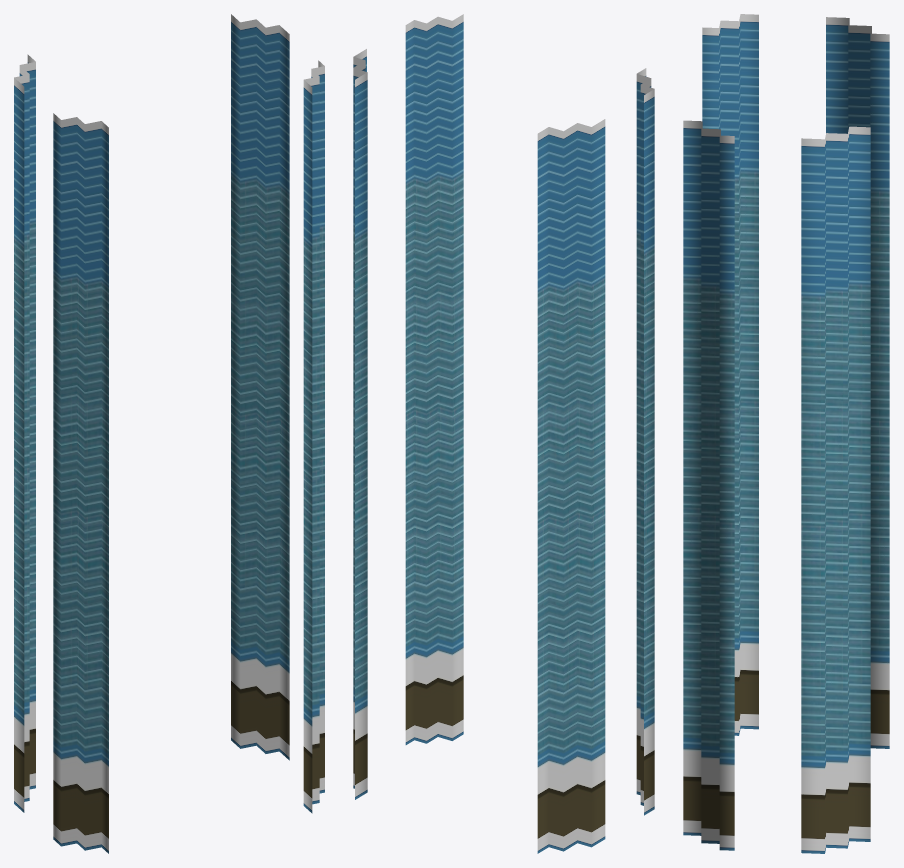
Rendered from trs6.dae.
3 renders of one model, left to right at view 1: azimuth 30°, elevation 25°; view 2: azimuth 150°, elevation 25°; view 3: azimuth 270°, elevation 25°, orthographic.
Parts seen in each view (by area): view 1: M_33; view 2: M_33; view 3: M_33.
Boxes of the visible parts, x1,y1,x2,y2 form: M_33: [14, 14, 324, 853]; M_33: [353, 14, 654, 853]; M_33: [683, 14, 889, 853].
Bounding box in the file's own units: 6.11 × 4.25 × 16.24.
1 material, 1 textured.
